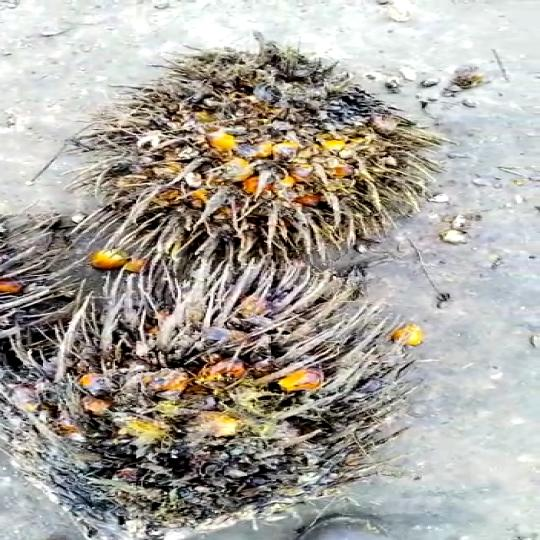terlalu masak: (30, 254, 402, 528), (67, 37, 451, 264)
